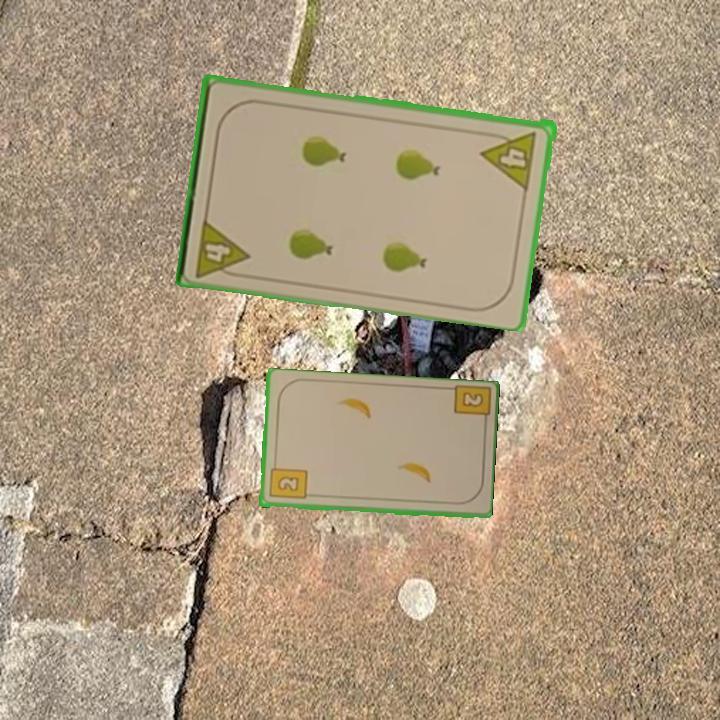2b: (449, 383, 491, 430), (266, 459, 309, 502)
4p: (191, 215, 253, 281), (479, 127, 539, 191)
